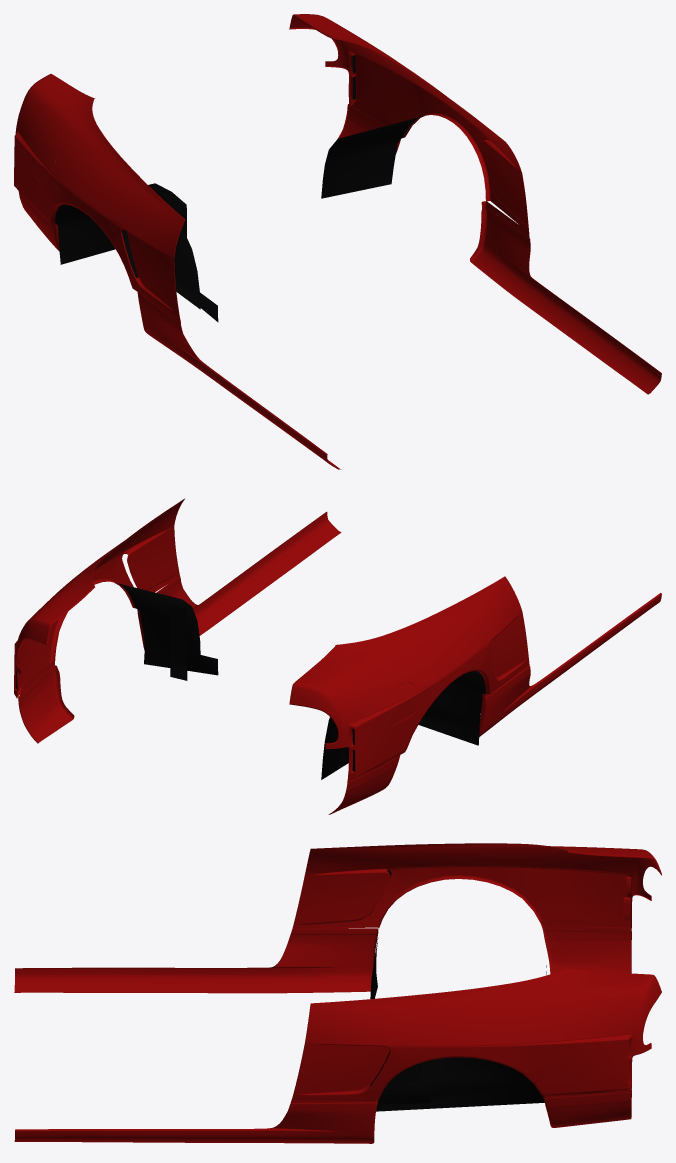
The model's file is rearfenders_carmodifywonderglare.glb.
3 views of the same model, one above another, from view 1: azimuth 30°, elevation 25°; view 2: azimuth 150°, elevation 25°; view 3: azimuth 270°, elevation 25° (orthographic).
Parts seen in each view (by area): view 1: Fenders, Extensions, Undercarriage; view 2: Fenders, Extensions, Undercarriage; view 3: Fenders, Extensions, Undercarriage.
Boxes of the visible parts, x1,y1,x2,y2 form: Fenders: (14, 14, 529, 318); Extensions: (18, 101, 661, 469); Undercarriage: (55, 116, 422, 322); Fenders: (14, 498, 528, 779); Extensions: (18, 512, 661, 814); Undercarriage: (117, 583, 485, 779); Fenders: (292, 843, 661, 1100); Extensions: (14, 919, 631, 1143); Undercarriage: (370, 933, 546, 1111).
Bounding box in the file's own units: 1.8 × 0.7373 × 2.73.
